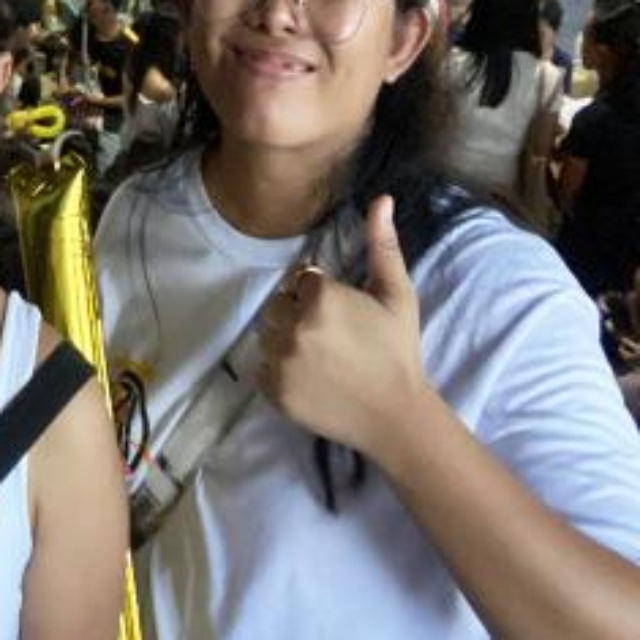thumbs_up: (245, 187, 433, 453)
